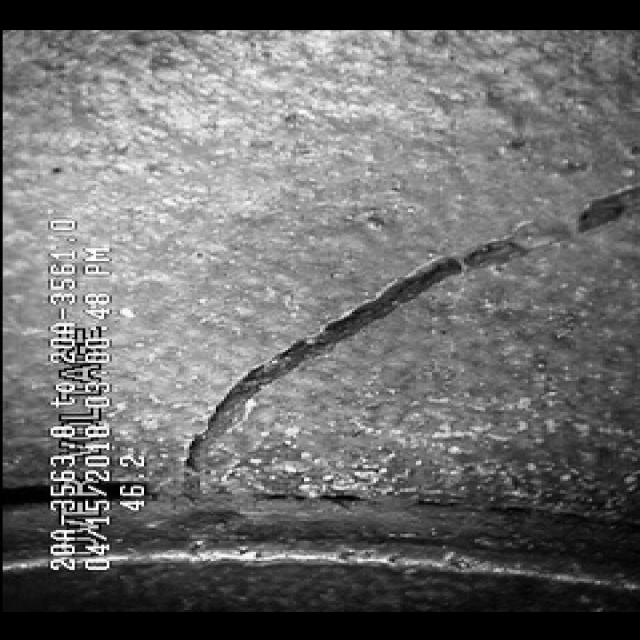Fracture: (175, 198, 610, 522)
